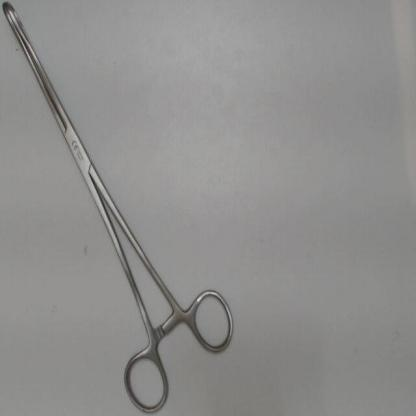Sponge Forceps: (3, 1, 240, 414)
